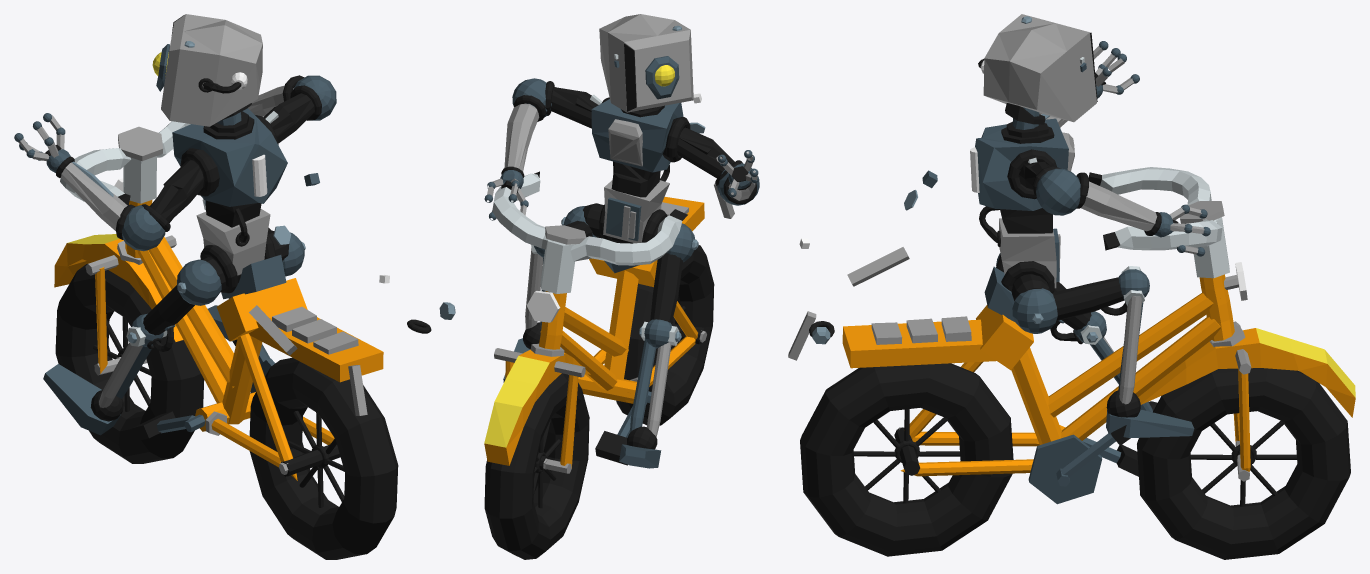
File: robot.glb
3 renders of one model, left to right at view 1: azimuth 30°, elevation 25°; view 2: azimuth 150°, elevation 25°; view 3: azimuth 270°, elevation 25°, orthographic. The views are drawn at different scales.
Parts seen in each view (by area): view 1: group762487646, group1901612701, group154473401; view 2: group762487646; view 3: group762487646, group1901612701.
Part boxes in pixels (x1,y1,x2,y2): group762487646: (14,14,398,559); group1901612701: (249,305,297,355); group154473401: (348,365,367,415); group762487646: (484,14,759,559); group762487646: (800,14,1355,559); group1901612701: (847,247,909,286).
Size of the model in its own units: 0.9358 by 1.54 by 1.52.
